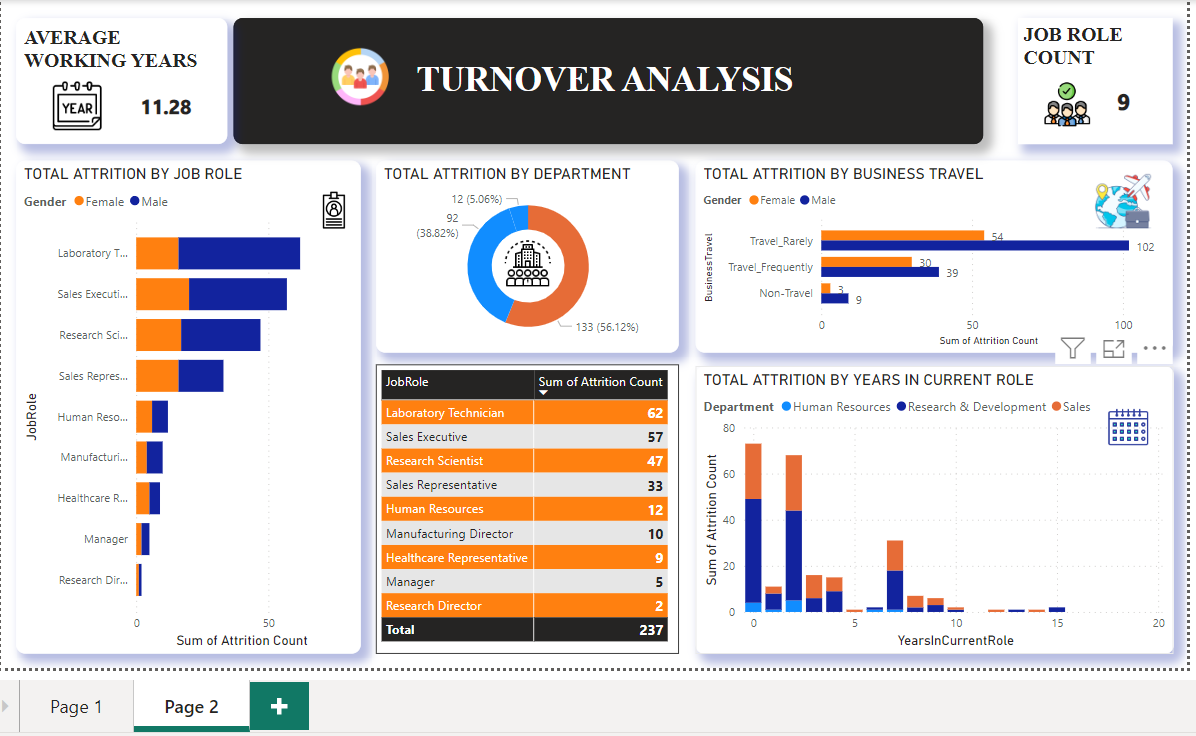

The dashboard page shown, as its layout file describes it:
{"tool":"powerbi","page":{"name":"Page 2","canvas":[1280,720],"ordinal":1},"visuals":[{"type":"barChart","title":"TOTAL ATTRITION BY JOB ROLE","fields":{"Category":["HR-Employee-Attrition.JobRole"],"Y":["Sum(HR-Employee-Attrition.Attrition Count)"],"Series":["HR-Employee-Attrition.Gender"]},"box":[16.2,173.1,372.1,532.3],"z":0},{"type":"clusteredBarChart","title":"TOTAL ATTRITION BY BUSINESS TRAVEL","fields":{"Category":["HR-Employee-Attrition.BusinessTravel"],"Y":["Sum(HR-Employee-Attrition.Attrition Count)"],"Series":["HR-Employee-Attrition.Gender"]},"box":[749.1,173.1,514.5,207.1],"z":1000},{"type":"donutChart","title":"TOTAL ATTRITION BY DEPARTMENT","fields":{"Category":["HR-Employee-Attrition.Department"],"Y":["Sum(HR-Employee-Attrition.Attrition Count)"]},"box":[404.5,173.1,326.8,207.1],"z":2000},{"type":"columnChart","title":"TOTAL ATTRITION BY YEARS IN CURRENT ROLE","fields":{"Y":["Sum(HR-Employee-Attrition.Attrition Count)"],"Category":["HR-Employee-Attrition.YearsInCurrentRole"],"Series":["HR-Employee-Attrition.Department"]},"box":[749.1,394.8,516.1,310.7],"z":3000},{"type":"pivotTable","fields":{"Rows":["HR-Employee-Attrition.JobRole"],"Values":["Sum(HR-Employee-Attrition.Attrition Count)"]},"box":[404.5,393.2,326.8,312.3],"z":4000},{"type":"textbox","box":[250.8,19.4,809,135.9],"z":5000},{"type":"textbox","box":[16.2,19.4,228.1,135.9],"z":6000},{"type":"textbox","box":[131.1,93.8,93.8,42.1],"z":7000},{"type":"textbox","box":[1097,19.4,166.7,135.9],"z":8000},{"type":"textbox","box":[1181.1,87.4,59.9,48.5],"z":9000},{"type":"image","box":[48.5,82.5,68,63.1],"z":10000},{"type":"image","box":[349.5,45.3,76,74.4],"z":11000},{"type":"image","box":[1114.8,82.5,71.2,59.9],"z":12000},{"type":"image","box":[1174.7,181.2,71.2,71.2],"z":13000},{"type":"image","box":[1186,428.8,59.9,61.5],"z":14000},{"type":"image","box":[317.1,200.6,84.1,51.8],"z":15000},{"type":"image","box":[537.2,252.4,61.5,63.1],"z":16000}]}

Visuals, with their boxes in screenshot pixels (x1, y1, x2, y2):
"TOTAL ATTRITION BY JOB ROLE" barChart: (0, 159, 349, 668)
"TOTAL ATTRITION BY BUSINESS TRAVEL" clusteredBarChart: (694, 159, 1185, 357)
"TOTAL ATTRITION BY DEPARTMENT" donutChart: (365, 159, 677, 357)
"TOTAL ATTRITION BY YEARS IN CURRENT ROLE" columnChart: (694, 371, 1187, 668)
pivotTable - HR-Employee-Attrition.JobRole x Sum(HR-Employee-Attrition.Attrition Count): (365, 369, 677, 668)
textbox: (218, 12, 991, 142)
textbox: (0, 12, 212, 142)
textbox: (103, 83, 193, 124)
textbox: (1026, 12, 1185, 142)
textbox: (1107, 77, 1164, 124)
image: (25, 73, 89, 133)
image: (312, 37, 385, 108)
image: (1043, 73, 1111, 130)
image: (1100, 167, 1168, 235)
image: (1111, 403, 1168, 462)
image: (281, 185, 361, 235)
image: (491, 235, 550, 295)
